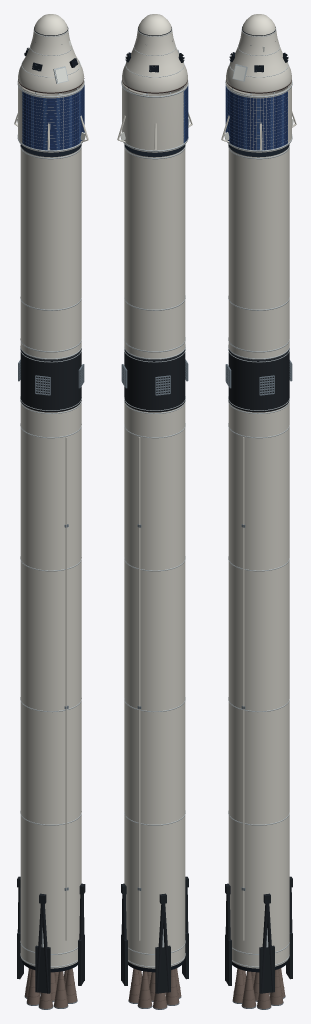
Rendered from cargo_dragon_falcon9_launch.glb.
The picture shows the model from 3 angles, left to right: view 1: azimuth 30°, elevation 25°; view 2: azimuth 150°, elevation 25°; view 3: azimuth 330°, elevation 25°; orthographic projection.
Parts seen in each view (by area): view 1: falcon9_stage_1.mesh_Warm_white_enamel, falcon9_stage_2.mesh_Warm_white_enamel, falcon9_interstage.mesh_Carbon_composite, dragon_capsule.mesh_Warm_white_enamel, dragon_trunk.body_solar_array.mesh_Indigo_solar_cells, falcon9_stage_1.landing_leg_04.shell.mesh_Carbon_composite, dragon_trunk.body_solar_array.mesh_Blue_photovoltaic_cells, dragon_trunk.mesh_Warm_white_enamel, falcon9_stage_1.mesh_Satin_aluminum, falcon9_stage_1.landing_leg_01.shell.mesh_Carbon_composite, dragon_nosecone.hinge.shell.mesh_Warm_white_enamel, falcon9_stage_2.mesh_Satin_aluminum (+7 smaller); view 2: falcon9_stage_1.mesh_Warm_white_enamel, falcon9_stage_2.mesh_Warm_white_enamel, dragon_trunk.mesh_Warm_white_enamel, falcon9_interstage.mesh_Carbon_composite, dragon_capsule.mesh_Warm_white_enamel, falcon9_stage_1.landing_leg_03.shell.mesh_Carbon_composite, falcon9_stage_1.mesh_Satin_aluminum, falcon9_stage_1.landing_leg_02.shell.mesh_Carbon_composite, dragon_nosecone.hinge.shell.mesh_Warm_white_enamel, falcon9_stage_2.mesh_Satin_aluminum, falcon9_stage_1.landing_leg_04.shell.mesh_Carbon_composite, falcon9_stage_1.merlin_06.bell.mesh_Heat-stained_alloy (+5 smaller); view 3: falcon9_stage_1.mesh_Warm_white_enamel, falcon9_stage_2.mesh_Warm_white_enamel, falcon9_interstage.mesh_Carbon_composite, dragon_capsule.mesh_Warm_white_enamel, dragon_trunk.body_solar_array.mesh_Indigo_solar_cells, dragon_trunk.mesh_Warm_white_enamel, falcon9_stage_1.landing_leg_01.shell.mesh_Carbon_composite, dragon_trunk.body_solar_array.mesh_Blue_photovoltaic_cells, falcon9_stage_1.mesh_Satin_aluminum, falcon9_stage_1.landing_leg_04.shell.mesh_Carbon_composite, dragon_nosecone.hinge.shell.mesh_Warm_white_enamel, falcon9_stage_2.mesh_Satin_aluminum (+7 smaller).
Part boxes in pixels (x1,y1,x2,y2): falcon9_stage_1.mesh_Warm_white_enamel: [20, 401, 81, 968]; falcon9_stage_2.mesh_Warm_white_enamel: [20, 146, 81, 359]; falcon9_interstage.mesh_Carbon_composite: [20, 348, 81, 412]; dragon_capsule.mesh_Warm_white_enamel: [18, 29, 84, 93]; dragon_trunk.body_solar_array.mesh_Indigo_solar_cells: [24, 85, 84, 150]; falcon9_stage_1.landing_leg_04.shell.mesh_Carbon_composite: [35, 893, 50, 993]; dragon_trunk.body_solar_array.mesh_Blue_photovoltaic_cells: [22, 86, 84, 150]; dragon_trunk.mesh_Warm_white_enamel: [18, 81, 84, 152]; falcon9_stage_1.mesh_Satin_aluminum: [20, 399, 81, 967]; falcon9_stage_1.landing_leg_01.shell.mesh_Carbon_composite: [78, 883, 85, 985]; dragon_nosecone.hinge.shell.mesh_Warm_white_enamel: [34, 14, 67, 35]; falcon9_stage_2.mesh_Satin_aluminum: [20, 145, 81, 359]; falcon9_stage_1.mesh_Warm_white_enamel: [124, 401, 185, 968]; falcon9_stage_2.mesh_Warm_white_enamel: [124, 144, 185, 359]; dragon_trunk.mesh_Warm_white_enamel: [122, 81, 187, 152]; falcon9_interstage.mesh_Carbon_composite: [124, 349, 185, 412]; dragon_capsule.mesh_Warm_white_enamel: [122, 30, 187, 93]; falcon9_stage_1.landing_leg_03.shell.mesh_Carbon_composite: [155, 893, 170, 993]; falcon9_stage_1.mesh_Satin_aluminum: [124, 399, 185, 967]; falcon9_stage_1.landing_leg_02.shell.mesh_Carbon_composite: [121, 883, 127, 985]; dragon_nosecone.hinge.shell.mesh_Warm_white_enamel: [138, 14, 171, 35]; falcon9_stage_2.mesh_Satin_aluminum: [124, 144, 185, 359]; falcon9_stage_1.landing_leg_04.shell.mesh_Carbon_composite: [182, 876, 188, 979]; falcon9_stage_1.merlin_06.bell.mesh_Heat-stained_alloy: [138, 971, 151, 1007]; falcon9_stage_1.mesh_Warm_white_enamel: [228, 400, 289, 968]; falcon9_stage_2.mesh_Warm_white_enamel: [228, 145, 289, 359]; falcon9_interstage.mesh_Carbon_composite: [228, 348, 289, 412]; dragon_capsule.mesh_Warm_white_enamel: [226, 30, 291, 93]; dragon_trunk.body_solar_array.mesh_Indigo_solar_cells: [225, 86, 287, 150]; dragon_trunk.mesh_Warm_white_enamel: [226, 81, 291, 152]; falcon9_stage_1.landing_leg_01.shell.mesh_Carbon_composite: [259, 893, 274, 993]; dragon_trunk.body_solar_array.mesh_Blue_photovoltaic_cells: [227, 88, 283, 150]; falcon9_stage_1.mesh_Satin_aluminum: [228, 400, 289, 967]; falcon9_stage_1.landing_leg_04.shell.mesh_Carbon_composite: [225, 883, 231, 985]; dragon_nosecone.hinge.shell.mesh_Warm_white_enamel: [242, 14, 275, 35]; falcon9_stage_2.mesh_Satin_aluminum: [228, 144, 289, 359].
Bounding box in the file's own units: 4.02 × 64.95 × 4.3.
